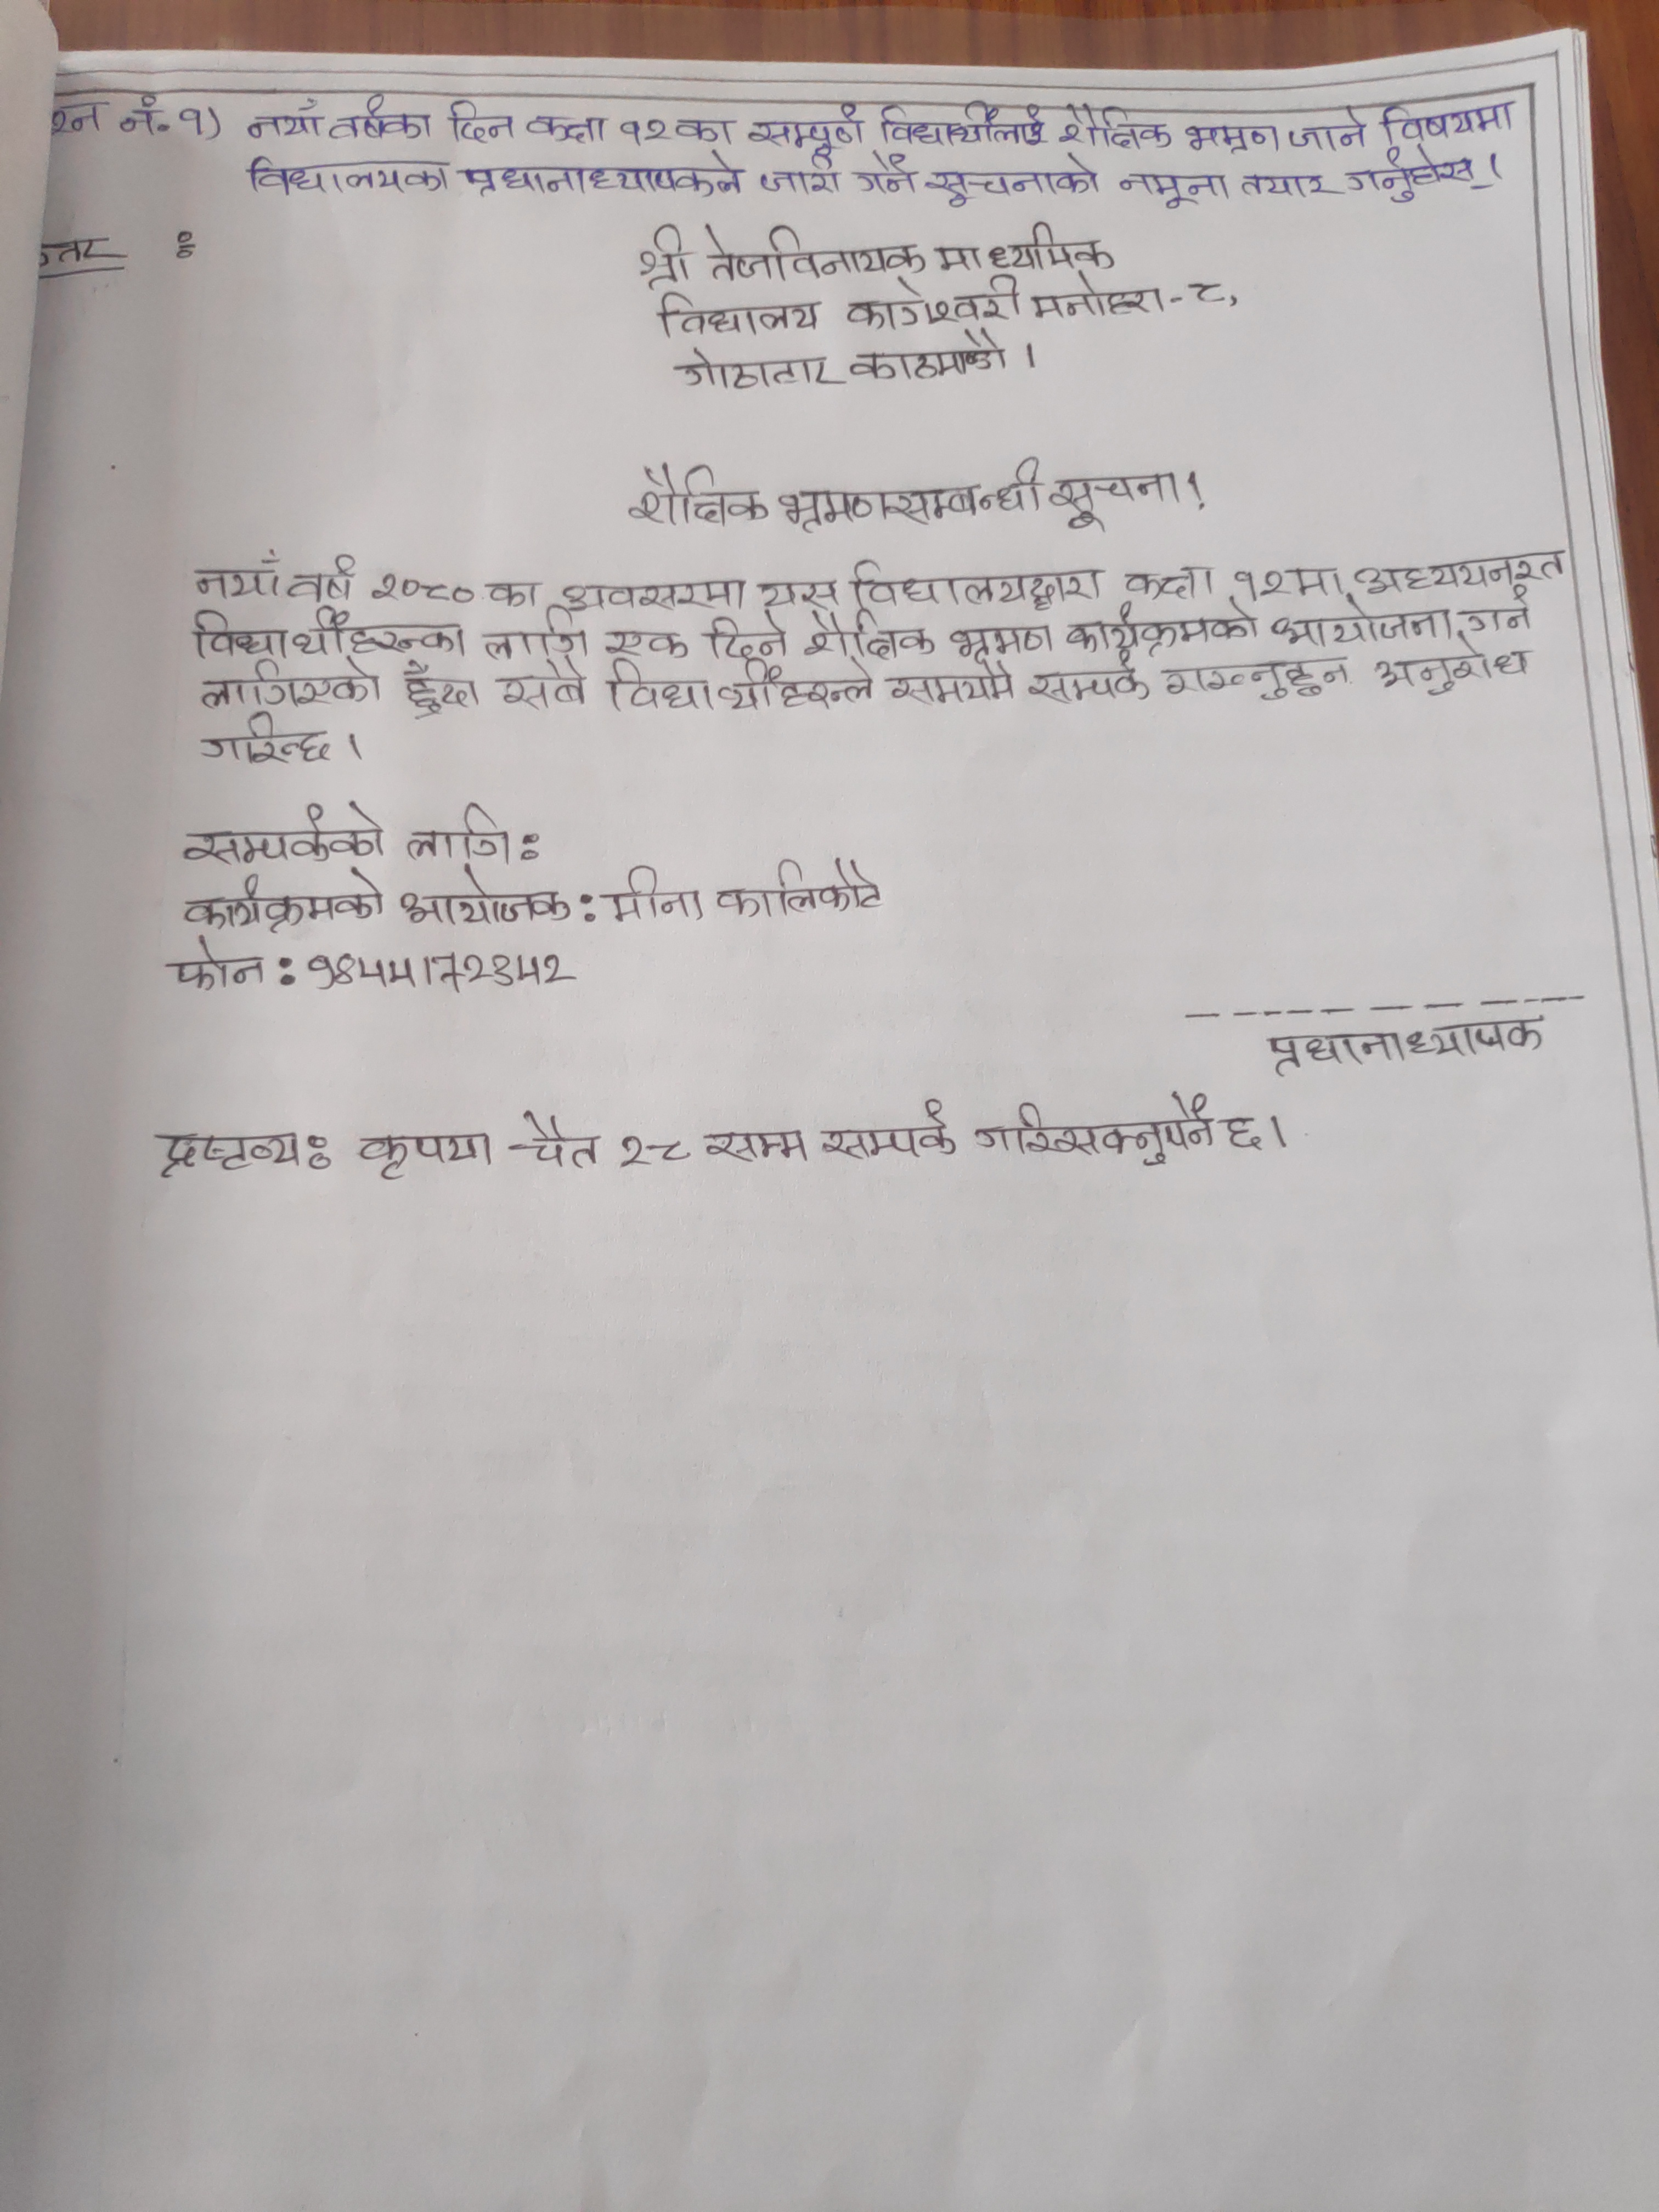text: (1256, 1010, 1551, 1078), (969, 1089, 1218, 1169), (772, 460, 1047, 531), (305, 939, 582, 996), (843, 554, 1112, 613), (601, 655, 875, 711), (181, 796, 389, 869), (458, 148, 746, 200), (185, 606, 471, 658), (694, 221, 925, 282), (711, 852, 885, 923), (392, 864, 573, 932), (1354, 542, 1570, 596), (246, 141, 451, 197), (181, 878, 389, 932), (622, 462, 772, 531), (192, 660, 390, 712), (843, 282, 1030, 334), (817, 1097, 964, 1163), (842, 326, 1014, 381), (1157, 651, 1354, 700), (925, 152, 1103, 206), (927, 221, 1119, 270), (1063, 603, 1260, 650), (1044, 465, 1183, 531), (871, 99, 1047, 152), (1344, 145, 1492, 206), (1032, 265, 1173, 327), (1371, 643, 1530, 697), (673, 343, 842, 394), (155, 1129, 308, 1183), (197, 714, 342, 770), (657, 291, 826, 338), (1378, 94, 1523, 148), (1272, 606, 1453, 648), (744, 98, 871, 157), (884, 660, 1021, 714), (401, 801, 516, 866), (352, 1129, 498, 1179), (803, 611, 941, 662), (558, 578, 755, 613), (514, 1106, 606, 1179), (1114, 160, 1236, 214), (1016, 657, 1155, 704), (166, 935, 270, 998), (1058, 99, 1176, 152), (605, 867, 706, 927), (328, 96, 439, 146), (701, 1120, 814, 1169), (495, 657, 592, 712), (366, 568, 484, 611), (188, 549, 286, 601), (401, 658, 481, 719), (1119, 557, 1218, 606), (943, 618, 1058, 660), (1180, 113, 1288, 155), (701, 613, 793, 662), (479, 624, 591, 664), (633, 218, 694, 291), (1234, 160, 1338, 202), (1286, 103, 1368, 155), (240, 98, 326, 145), (1230, 552, 1295, 611), (756, 157, 845, 199), (26, 237, 132, 272), (526, 105, 606, 150), (599, 625, 688, 665), (444, 96, 519, 143), (286, 554, 359, 601), (112, 92, 179, 143), (758, 571, 843, 611), (617, 1132, 692, 1177), (1460, 592, 1537, 636), (854, 146, 924, 192), (45, 98, 113, 139), (481, 570, 544, 613), (1286, 563, 1349, 603), (1218, 1109, 1265, 1162), (678, 111, 739, 148), (619, 115, 676, 150), (1190, 272, 1229, 315), (174, 101, 207, 141)
